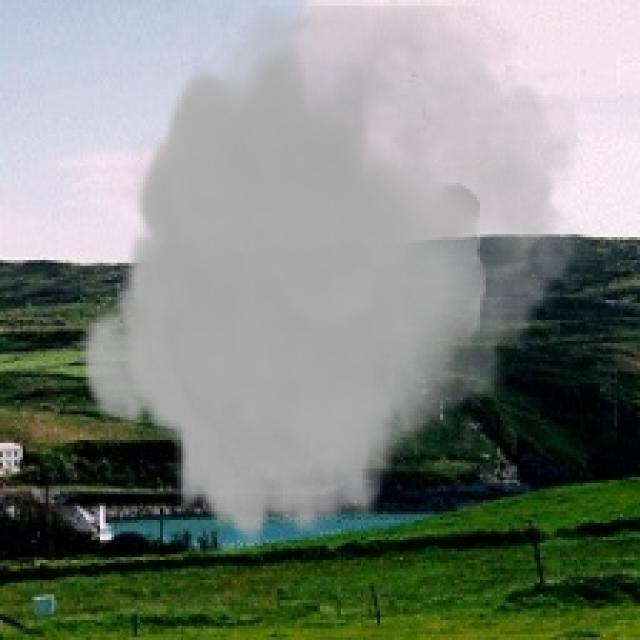Smoke: (77, 6, 597, 546)
